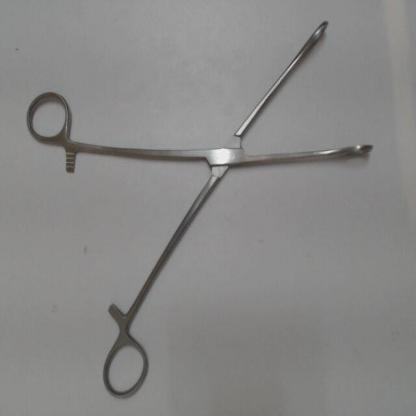Sponge Forceps: (22, 10, 379, 403)
